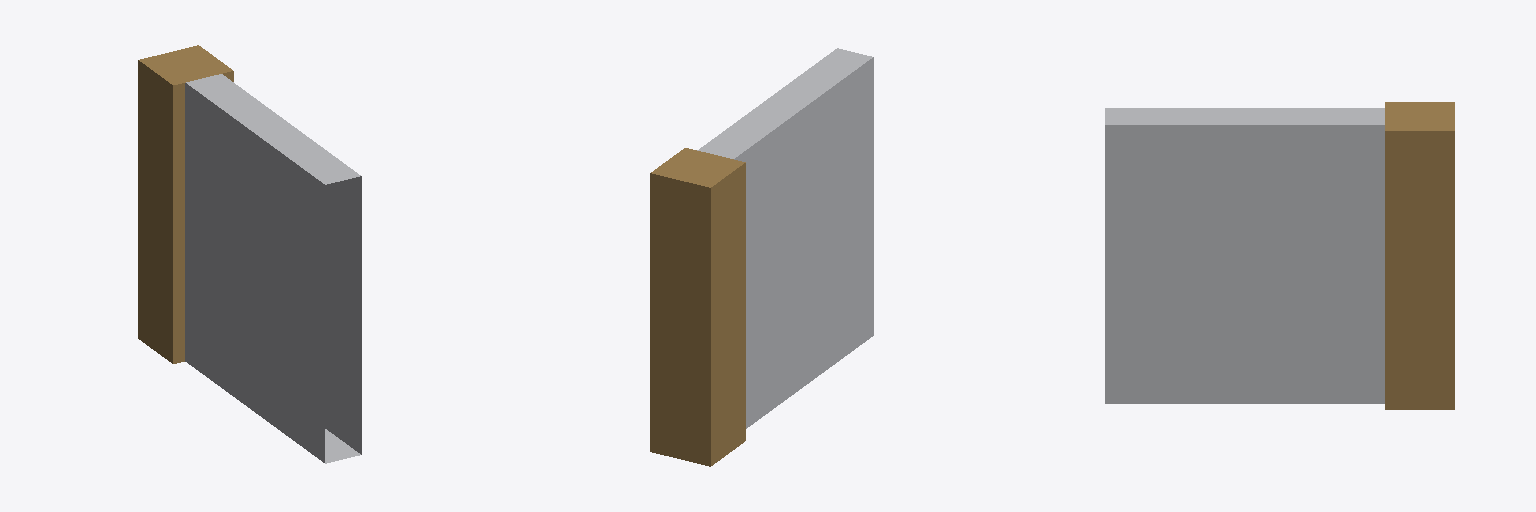
File: Wood_Wall_011.obj
The picture shows the model from 3 angles: view 1: azimuth 30°, elevation 25°; view 2: azimuth 150°, elevation 25°; view 3: azimuth 270°, elevation 25°; orthographic projection.
Visible parts, largest first — view 1: Wood_Wall_01; view 2: Wood_Wall_01; view 3: Wood_Wall_01.
Part boxes in pixels (left/top/right/bottom): Wood_Wall_01: left=138, top=45, right=361, bottom=463; Wood_Wall_01: left=650, top=48, right=873, bottom=466; Wood_Wall_01: left=1105, top=102, right=1454, bottom=409.
Bounding box in the file's own units: 0.5 × 2.2 × 2.5.